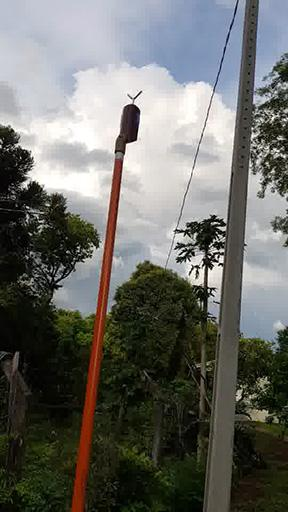Detector_Tensao_Contato: (118, 90, 142, 146)
Vara_Manobra: (70, 138, 125, 512)
